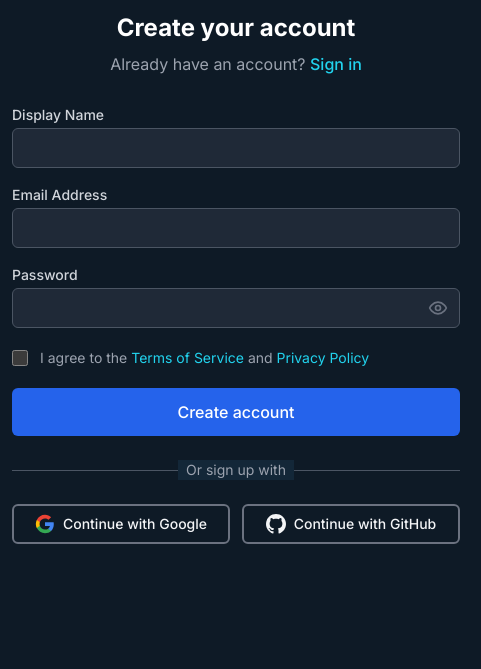
Test: RegisterPage › shows password strength indicator
# Type a weak password
Type "weak" into the password field labelled "Password" at (236, 308), box [12, 288, 460, 328]
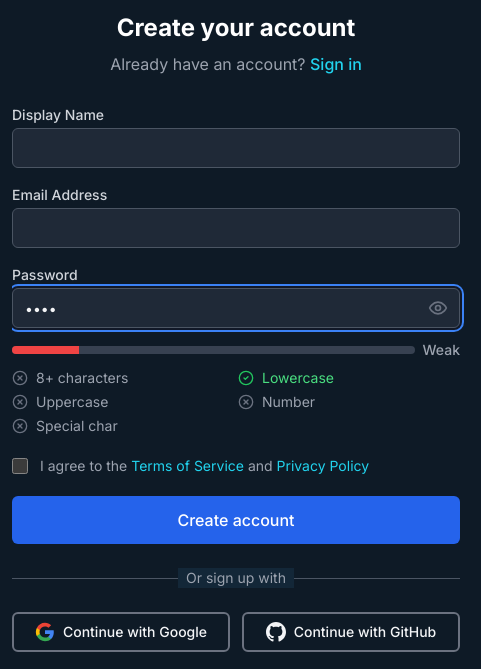
Now the text "Weak" is shown, box [422, 340, 460, 360]
# Clear and type a strong password
Type "StrongP@ssw0rd123" into the password field labelled "Password" at (236, 308), box [12, 288, 460, 328]
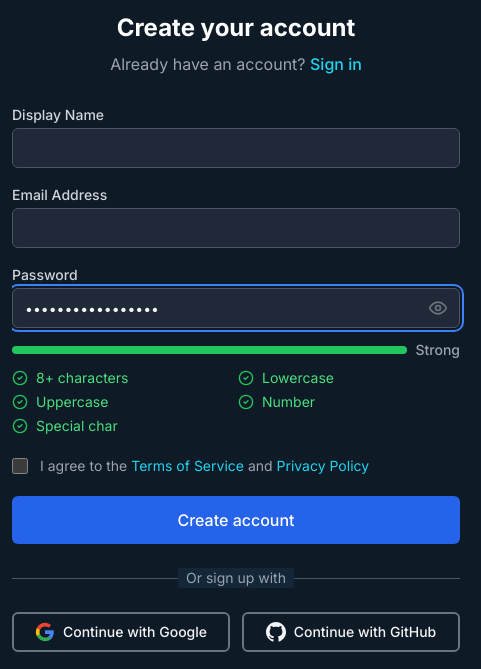
Now the text "Strong" is shown, box [416, 340, 460, 360]
